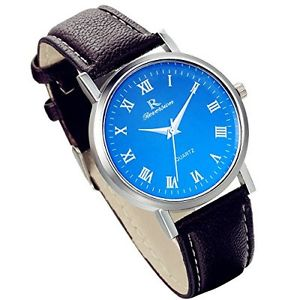clock: (88, 52, 249, 211)
